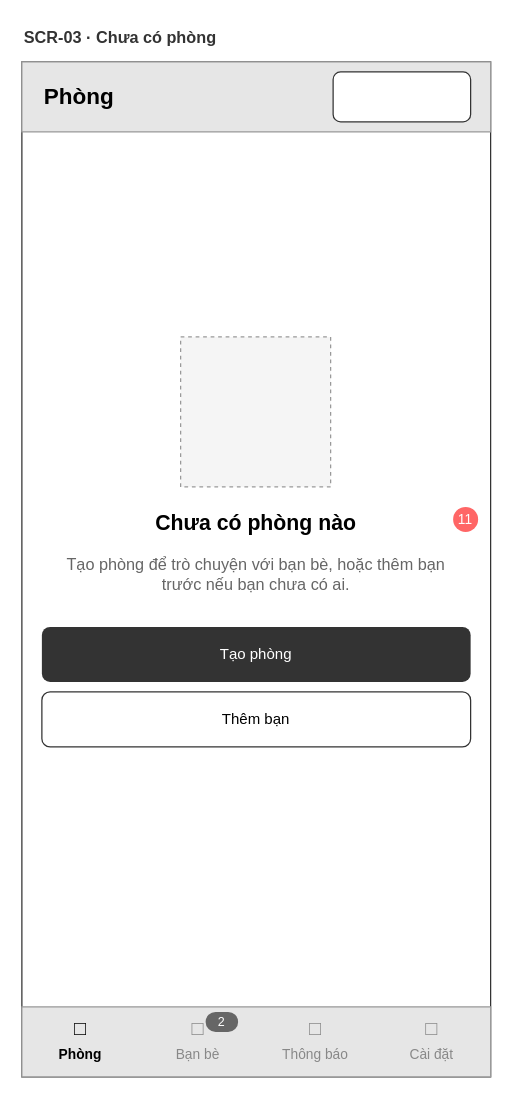
Image size: 513x1099. Some labels were removed from this diagram. Each missing label, with the centre of its shape:
"+ Tạo phòng" belongs at (x=401, y=96).
"[Minh họa]" belongs at (x=255, y=411).
